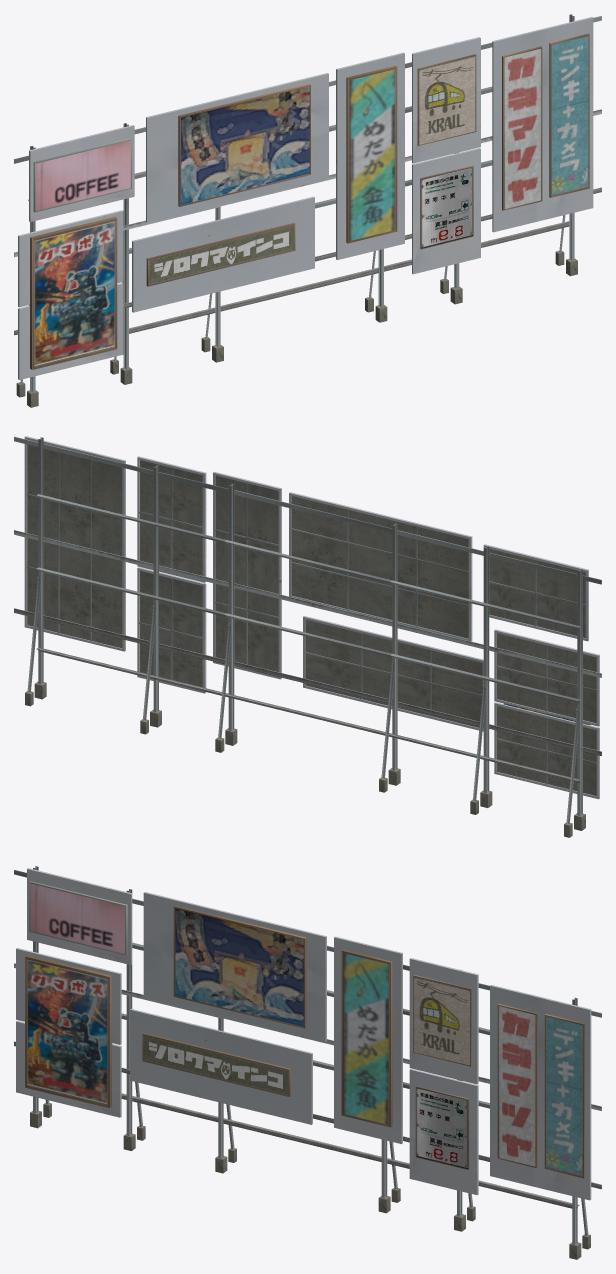
Rendered from signboardframe02c.fbx.
3 renders of one model, top to bottom at view 1: azimuth 30°, elevation 25°; view 2: azimuth 150°, elevation 25°; view 3: azimuth 330°, elevation 25°, orthographic.
Visible parts, largest first — view 1: signboardframe02c; view 2: signboardframe02c; view 3: signboardframe02c.
Boxes of the visible parts, x1,y1,x2,y2 form: signboardframe02c: (14, 14, 601, 407); signboardframe02c: (14, 436, 601, 837); signboardframe02c: (14, 866, 601, 1259).
Bounding box in the file's own units: 758 × 41.35 × 326.
4 materials, 4 textured.
